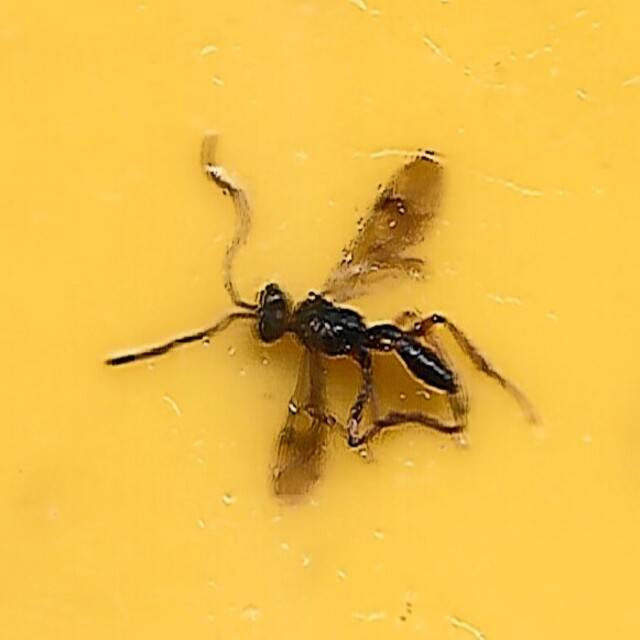Hymenoptera: (110, 140, 530, 500)
